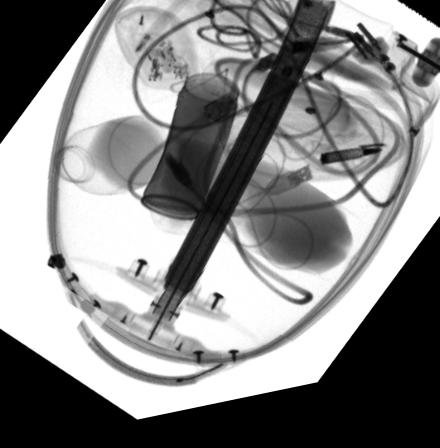Bullet: (319, 163, 380, 177)
